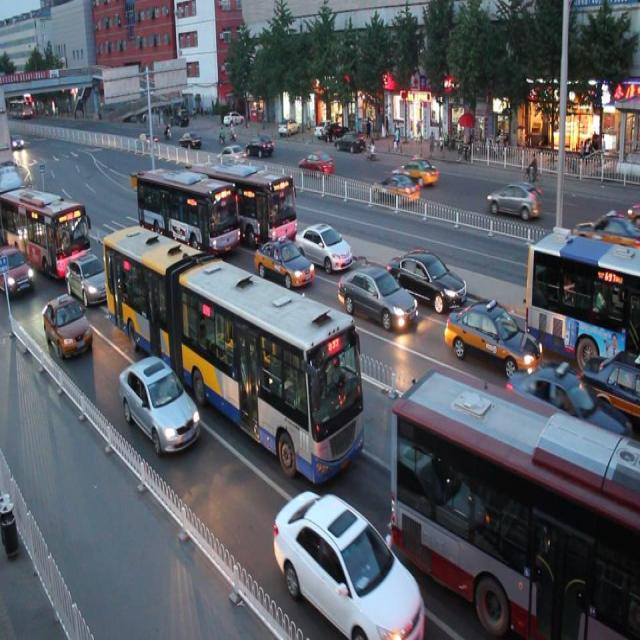car: (274, 480, 424, 640), (504, 364, 632, 479), (446, 294, 544, 382), (120, 355, 201, 453), (337, 258, 416, 331), (390, 243, 468, 309), (579, 345, 640, 418), (253, 230, 314, 289), (42, 294, 94, 363), (294, 214, 352, 273), (66, 253, 116, 308), (1, 242, 34, 302)
van: (102, 218, 366, 482), (392, 371, 640, 640), (524, 225, 640, 360), (191, 153, 298, 248), (136, 164, 240, 254), (1, 182, 90, 272)
